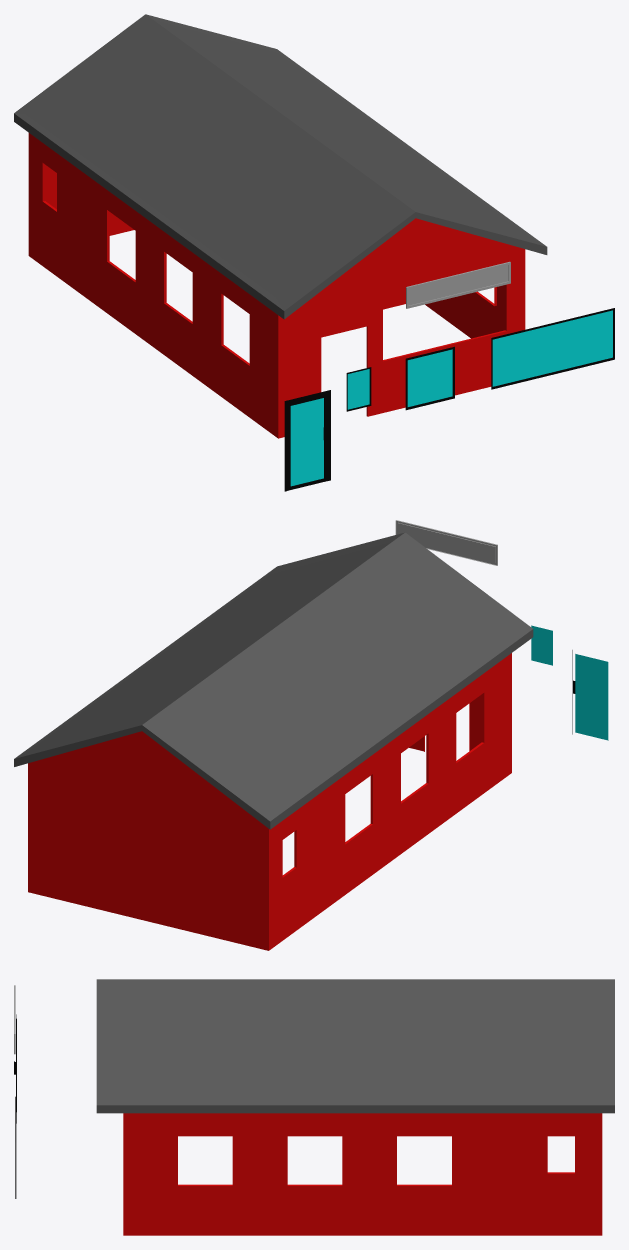
The model's file is Post Office.fbx.
3 views of the same model, one above another, from view 1: azimuth 30°, elevation 25°; view 2: azimuth 150°, elevation 25°; view 3: azimuth 270°, elevation 25° (orthographic). The views are drawn at different scales.
Visible parts, largest first — view 1: polySurface7, polySurface8, polySurface2, polySurface4, polySurface9, polySurface6; view 2: polySurface7, polySurface2, polySurface9, polySurface6; view 3: polySurface7.
Part boxes in pixels (x1,y1,x2,y2): polySurface7: [14, 14, 547, 438]; polySurface8: [491, 308, 614, 389]; polySurface2: [284, 390, 330, 491]; polySurface4: [405, 346, 454, 410]; polySurface9: [406, 261, 510, 308]; polySurface6: [346, 367, 371, 411]; polySurface7: [14, 532, 533, 950]; polySurface2: [572, 650, 608, 740]; polySurface9: [395, 520, 497, 565]; polySurface6: [531, 625, 552, 665]; polySurface7: [96, 979, 614, 1235].
Bounding box in the file's own units: 26.72 × 15.98 × 43.9.
